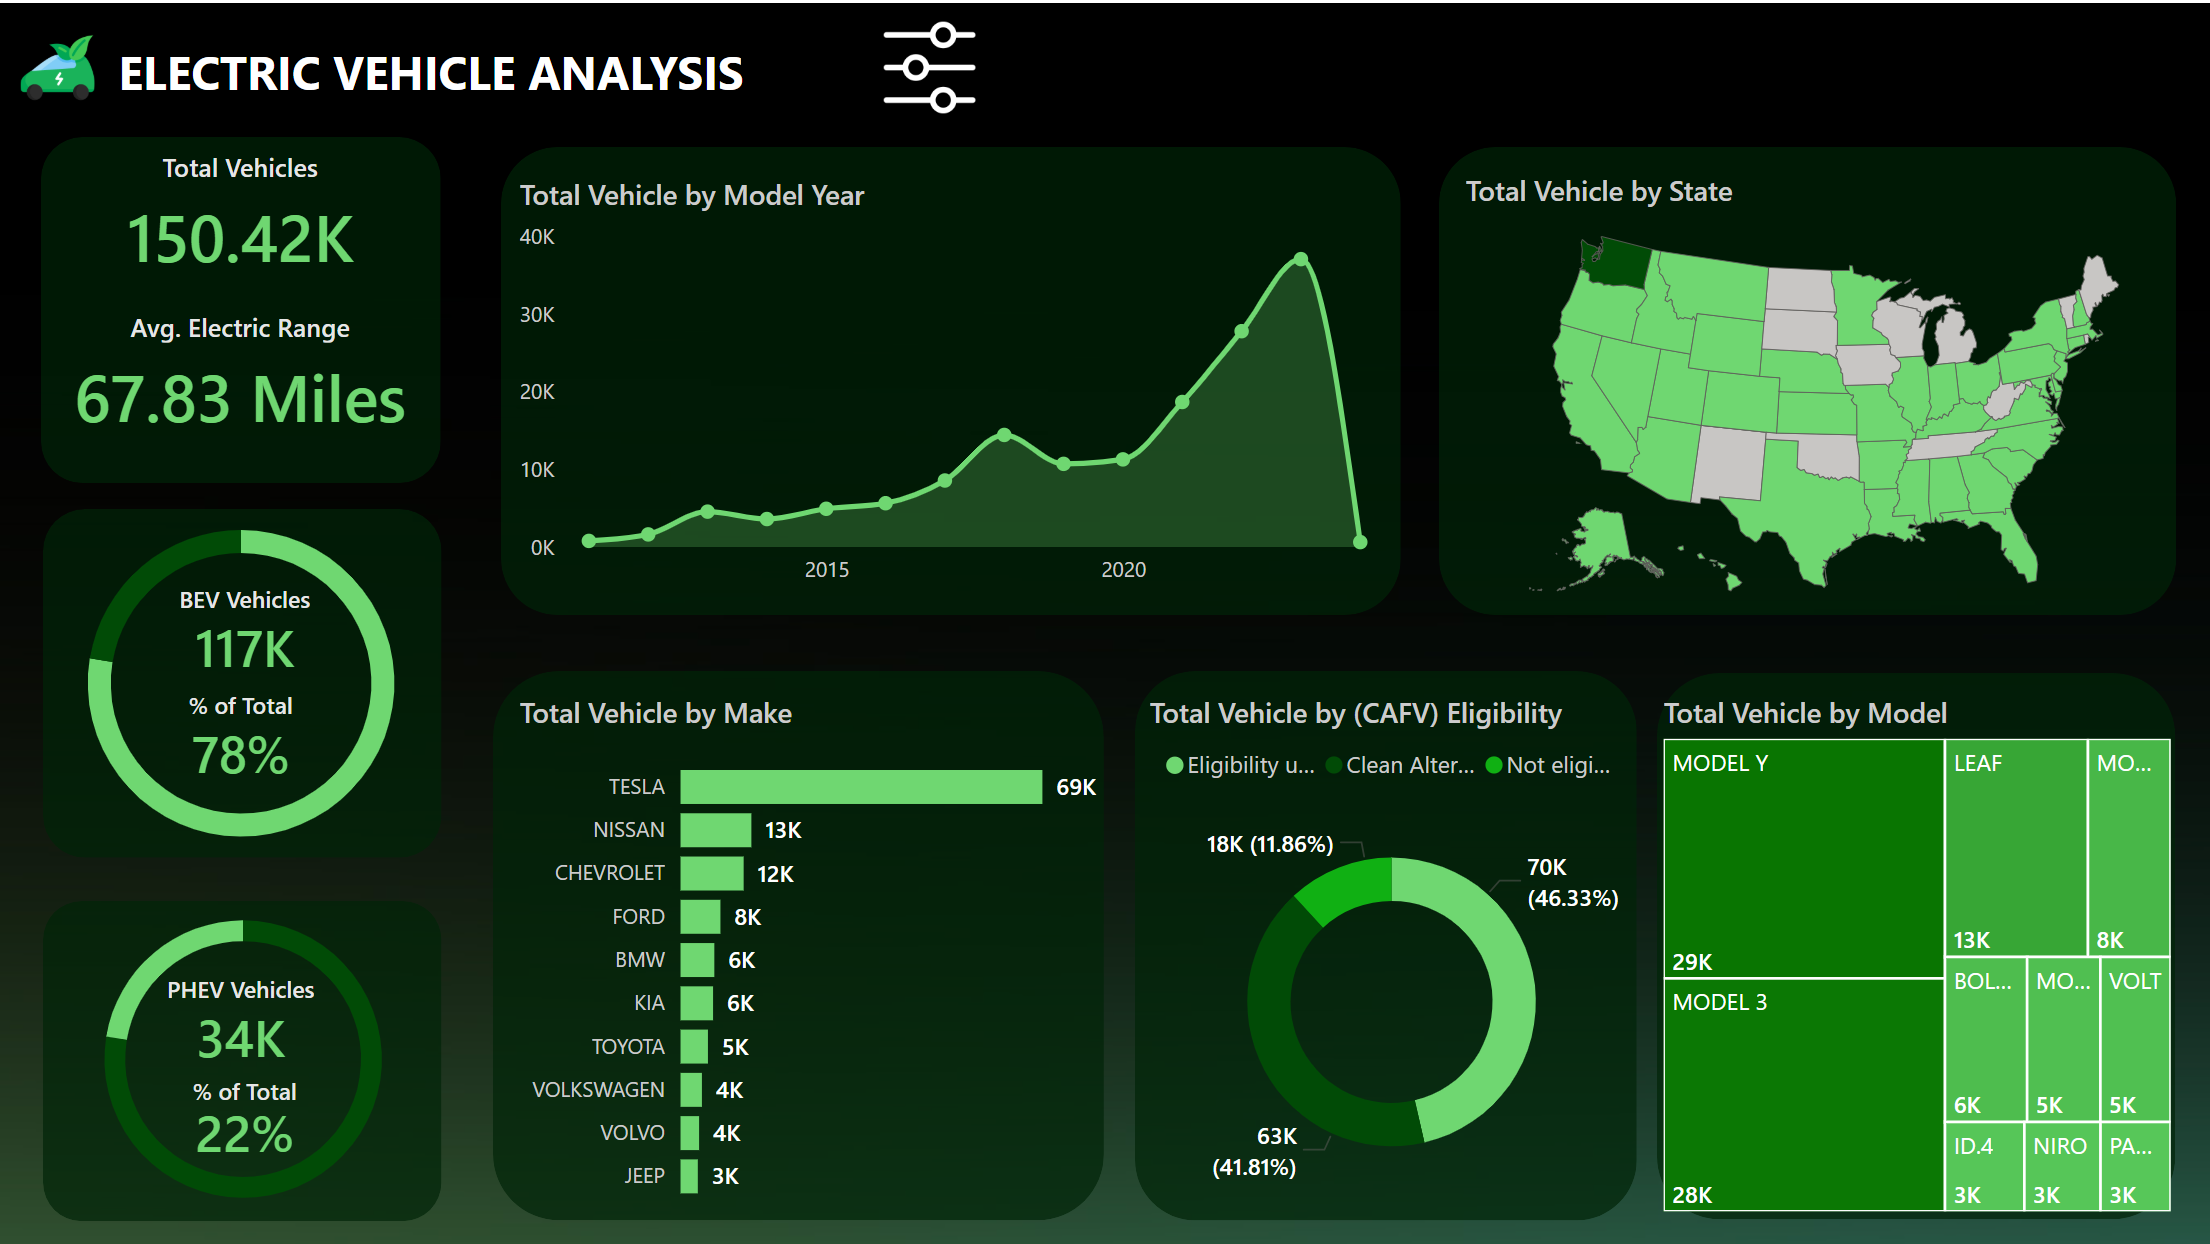

This screenshot's page, from the dashboard's own definition file:
{"tool":"powerbi","page":{"name":"Page 1","canvas":[1280,720],"ordinal":0},"visuals":[{"type":"card","fields":{"Values":["Electric_Vehicle_Population_Data.TITLE HEADER"]},"box":[26.8,6.2,448.6,70],"z":0},{"type":"shape","box":[25.8,77.1,231,200],"z":1000},{"type":"card","title":"Total Vehicles","fields":{"Values":["Electric_Vehicle_Population_Data.Total Vehicle"]},"box":[24.7,84.4,232.5,82.3],"z":2000},{"type":"card","title":"Avg. Electric Range","fields":{"Values":["Electric_Vehicle_Population_Data.Avg Electric Range"]},"box":[24.7,177,232.5,82.3],"z":3000},{"type":"shape","box":[26.8,292.2,230.5,201.7],"z":5000},{"type":"shape","box":[26.8,518.6,230.5,185.2],"z":6000},{"type":"donutChart","fields":{"Category":["Electric_Vehicle_Population_Data.Electric Vehicle Type"],"Y":["Electric_Vehicle_Population_Data.Total Vehicle"]},"box":[11.3,277.1,259.2,231.7],"z":7000},{"type":"card","title":"BEV Vehicles","fields":{"Values":["Electric_Vehicle_Population_Data.BEV vehicle"]},"box":[90.7,335.4,103.7,58.3],"z":8000},{"type":"card","title":"% of Total","fields":{"Values":["Electric_Vehicle_Population_Data.% BEV Vehicles"]},"box":[89.1,397,103.7,58.3],"z":9000},{"type":"donutChart","fields":{"Category":["Electric_Vehicle_Population_Data.Electric Vehicle Type"],"Y":["Electric_Vehicle_Population_Data.Total Vehicle"]},"box":[13,505.5,259.2,210.6],"z":10000},{"type":"card","title":"PHEV Vehicles","fields":{"Values":["Electric_Vehicle_Population_Data.PHEV Vehicle"]},"box":[89.1,560.6,103.7,58.3],"z":11000},{"type":"card","title":"% of Total","fields":{"Values":["Electric_Vehicle_Population_Data.% of PHEV Vehicle"]},"box":[90.7,618.9,103.7,50.2],"z":12000},{"type":"shape","box":[291.6,82.6,520.1,270.6],"z":13000},{"type":"areaChart","fields":{"Y":["Electric_Vehicle_Population_Data.Total Vehicle"],"Category":["Electric_Vehicle_Population_Data.Model Year"]},"box":[296.5,99.2,508.8,246.3],"z":14000},{"type":"shape","box":[832.8,82.6,426.1,270.6],"z":15000},{"type":"shapeMap","fields":{"Category":["Electric_Vehicle_Population_Data.State"],"Value":["Electric_Vehicle_Population_Data.Total Vehicle"]},"box":[844.2,97.4,414.8,259.2],"z":16000},{"type":"shape","box":[286.8,385.6,353.2,317.6],"z":17000},{"type":"shape","box":[657.8,385.6,290,317.6],"z":19000},{"type":"donutChart","title":"Total Vehicle by (CAFV) Eligibility","fields":{"Category":["Electric_Vehicle_Population_Data.Clean Alternative Fuel Vehicle (CAFV) Eligibility"],"Y":["Electric_Vehicle_Population_Data.Total Vehicle"]},"box":[661.1,398.6,290,306.2],"z":20000},{"type":"barChart","fields":{"Category":["Electric_Vehicle_Population_Data.Make"],"Y":["Electric_Vehicle_Population_Data.Total Vehicle"]},"box":[296.5,398.6,343.5,304.6],"z":20500},{"type":"shape","box":[959.2,387.2,299.7,315.9],"z":21000},{"type":"treemap","fields":{"Group":["Electric_Vehicle_Population_Data.Model"],"Values":["Electric_Vehicle_Population_Data.Total Vehicle"]},"box":[957.6,398.6,303,304.6],"z":22000},{"type":"image","box":[485.5,6.3,107.2,63.1],"z":24000},{"type":"image","box":[0,10.5,69.9,54],"z":26000}]}

Visuals, with their boxes in screenshot pixels (x1, y1, x2, y2), scaled from the page's 1280x720 canvas onto the 2210x1244 screenshot:
card - Electric_Vehicle_Population_Data.TITLE HEADER: left=46, top=11, right=821, bottom=132
shape: left=45, top=133, right=443, bottom=479
"Total Vehicles" card: left=43, top=146, right=444, bottom=288
"Avg. Electric Range" card: left=43, top=306, right=444, bottom=448
shape: left=46, top=505, right=444, bottom=853
shape: left=46, top=896, right=444, bottom=1216
donutChart - Electric_Vehicle_Population_Data.Electric Vehicle Type x Electric_Vehicle_Population_Data.Total Vehicle: left=20, top=479, right=467, bottom=879
"BEV Vehicles" card: left=157, top=579, right=336, bottom=680
"% of Total" card: left=154, top=686, right=333, bottom=787
donutChart - Electric_Vehicle_Population_Data.Electric Vehicle Type x Electric_Vehicle_Population_Data.Total Vehicle: left=22, top=873, right=470, bottom=1237
"PHEV Vehicles" card: left=154, top=969, right=333, bottom=1069
"% of Total" card: left=157, top=1069, right=336, bottom=1156
shape: left=503, top=143, right=1401, bottom=610
areaChart - Electric_Vehicle_Population_Data.Total Vehicle x Electric_Vehicle_Population_Data.Model Year: left=512, top=171, right=1390, bottom=597
shape: left=1438, top=143, right=2174, bottom=610
shapeMap - Electric_Vehicle_Population_Data.State x Electric_Vehicle_Population_Data.Total Vehicle: left=1458, top=168, right=2174, bottom=616
shape: left=495, top=666, right=1105, bottom=1215
shape: left=1136, top=666, right=1636, bottom=1215
"Total Vehicle by (CAFV) Eligibility" donutChart: left=1141, top=689, right=1642, bottom=1218
barChart - Electric_Vehicle_Population_Data.Make x Electric_Vehicle_Population_Data.Total Vehicle: left=512, top=689, right=1105, bottom=1215
shape: left=1656, top=669, right=2174, bottom=1215
treemap - Electric_Vehicle_Population_Data.Model x Electric_Vehicle_Population_Data.Total Vehicle: left=1653, top=689, right=2177, bottom=1215
image: left=838, top=11, right=1023, bottom=120
image: left=0, top=18, right=121, bottom=111
